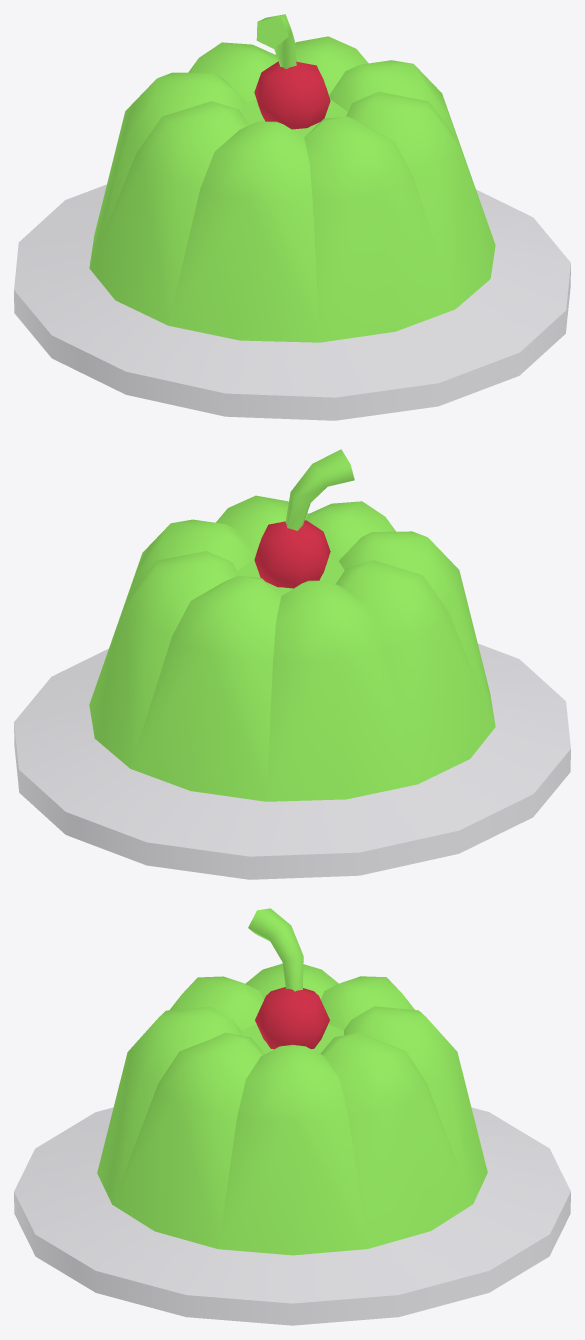
Rendered from accessory-jellohat.glb.
3 views of the same model, one above another, from view 1: azimuth 30°, elevation 25°; view 2: azimuth 150°, elevation 25°; view 3: azimuth 270°, elevation 25° (orthographic). The views are drawn at different scales.
Parts seen in each view (by area): view 1: accessory__JA_m_Hat02__0; view 2: accessory__JA_m_Hat02__0; view 3: accessory__JA_m_Hat02__0.
Part boxes in pixels (left/top/right/bottom): accessory__JA_m_Hat02__0: left=14, top=14, right=570, bottom=420; accessory__JA_m_Hat02__0: left=14, top=449, right=570, bottom=879; accessory__JA_m_Hat02__0: left=14, top=908, right=570, bottom=1325.
Size of the model in its own units: 0.4579 by 0.2755 by 0.4808.
